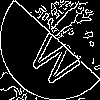W: (25, 25, 88, 91)
